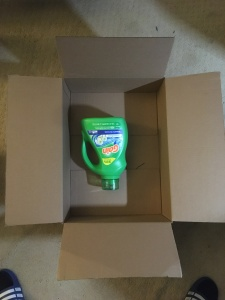innerbox: (62, 78, 171, 224)
outerbox: (8, 35, 225, 278)
product: (80, 118, 127, 191)
